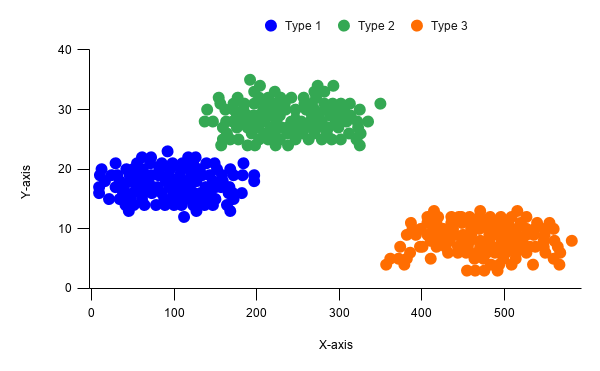canvas: (91, 45, 589, 285)
legend: (245, 10, 478, 40)
x-labels: (122, 304, 545, 327)
x-title: (309, 335, 364, 360)
y-axis: (15, 157, 38, 219)
y-labels: (46, 34, 75, 302)
